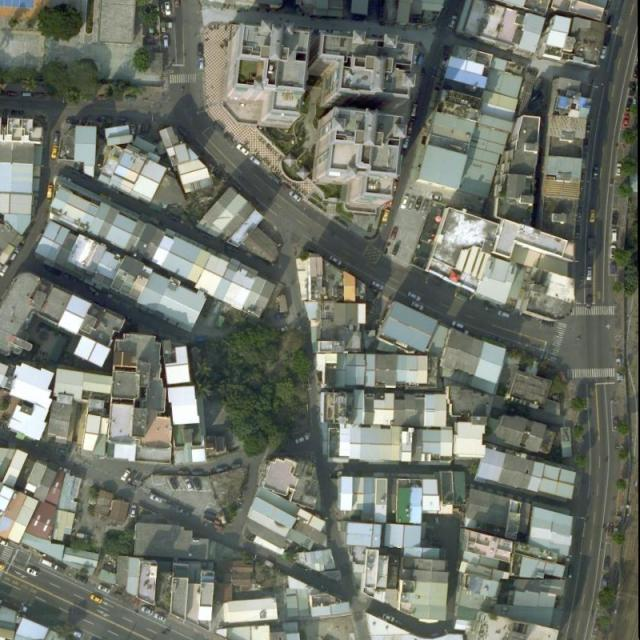vehicle: (288, 188, 303, 203), (139, 604, 155, 618), (235, 142, 250, 156), (294, 433, 311, 445), (327, 254, 343, 266), (96, 582, 112, 594), (448, 14, 460, 30), (599, 44, 611, 60), (248, 155, 262, 168), (267, 171, 281, 184), (119, 468, 132, 482), (148, 492, 163, 504), (89, 594, 104, 606), (74, 574, 89, 586), (26, 566, 41, 578), (381, 614, 397, 625), (177, 126, 190, 139), (402, 134, 413, 149), (399, 195, 410, 210), (410, 302, 426, 312), (420, 198, 430, 214), (9, 248, 20, 262), (176, 507, 191, 517), (407, 292, 422, 302), (65, 116, 80, 126), (427, 192, 442, 202), (622, 114, 631, 130), (407, 118, 416, 134), (154, 613, 167, 624), (184, 476, 194, 490), (371, 280, 385, 290), (416, 52, 426, 66), (163, 1, 172, 16), (414, 197, 423, 212), (127, 470, 138, 482), (497, 309, 510, 319), (586, 239, 594, 255), (122, 94, 138, 102), (1, 263, 10, 277), (53, 132, 62, 146), (610, 245, 619, 259), (451, 321, 465, 330), (406, 197, 415, 211), (69, 630, 83, 639), (197, 43, 205, 58), (194, 477, 202, 492), (169, 477, 178, 490), (390, 228, 399, 241), (410, 104, 419, 117), (133, 474, 142, 487), (586, 295, 594, 309), (612, 211, 620, 225), (46, 184, 54, 198), (593, 166, 601, 180), (39, 558, 53, 566), (486, 305, 498, 314), (1, 535, 10, 547), (611, 228, 618, 243), (626, 98, 633, 113), (216, 466, 229, 474), (382, 210, 390, 223), (51, 146, 59, 159), (1, 437, 10, 448), (130, 504, 137, 518), (162, 35, 169, 49), (199, 57, 206, 71), (589, 209, 596, 223), (194, 335, 208, 342), (392, 244, 400, 256), (276, 326, 288, 334), (604, 558, 611, 571), (567, 565, 574, 578), (617, 163, 623, 178), (586, 266, 592, 281), (377, 6, 385, 17), (178, 470, 190, 477), (608, 523, 614, 536), (613, 417, 619, 430), (35, 91, 46, 98), (193, 470, 205, 476), (610, 262, 616, 273), (7, 91, 18, 97), (22, 91, 33, 96), (1, 562, 6, 571), (175, 1, 181, 8)
